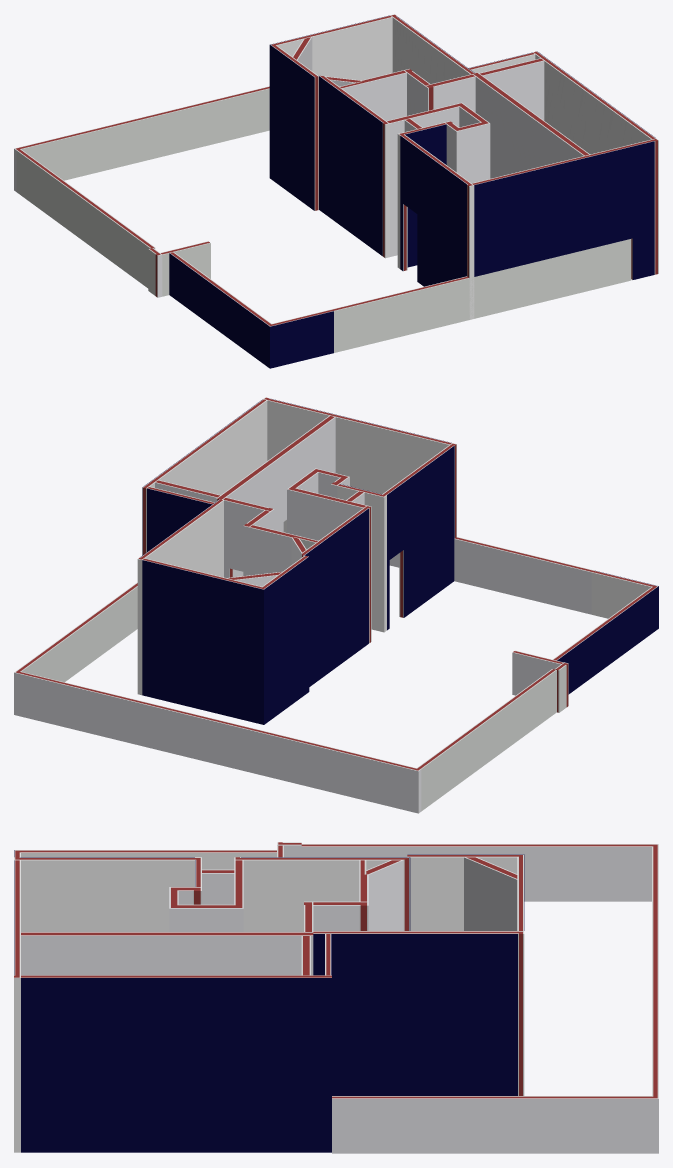
Rendered from PROJETO BIM 12 ANDARES_Cobertura_IfcWallStandardCase.dae.
The picture shows the model from 3 angles, top to bottom: view 1: azimuth 30°, elevation 25°; view 2: azimuth 150°, elevation 25°; view 3: azimuth 270°, elevation 25°; orthographic projection. The views are drawn at different scales.
Visible parts, largest first — view 1: 09FUhpNd17hxATKHNAqtBv, 0GrGU7b458xBIgcOSQjh2O, 0GrGU7b458xBIgcOSQjh9x, 09FUhpNd17hxATKHNAqtKR, 09FUhpNd17hxATKHNAqtB4, 09FUhpNd17hxATKHNAqt3h, 0GrGU7b458xBIgcOSQjh6f, 09FUhpNd17hxATKHNAquWS, 09FUhpNd17hxATKHNAqt9T, 0GrGU7b458xBIgcOSQjhBm, 09FUhpNd17hxATKHNAqt1c, 09FUhpNd17hxATKHNAqtQ6 (+12 smaller); view 2: 0GrGU7b458xBIgcOSQjh9x, 09FUhpNd17hxATKHNAqt1c, 09FUhpNd17hxATKHNAqtB4, 09FUhpNd17hxATKHNAqtKR, 09FUhpNd17hxATKHNAqtBv, 09FUhpNd17hxATKHNAqt3h, 0GrGU7b458xBIgcOSQjh6f, 0GrGU7b458xBIgcOSQjh2O, 09FUhpNd17hxATKHNAqt9T, 09FUhpNd17hxATKHNAquWS, 0GrGU7b458xBIgcOSQjh8a, 0GrGU7b458xBIgcOSQjhBm (+9 smaller); view 3: 09FUhpNd17hxATKHNAqt9T, 09FUhpNd17hxATKHNAqtQ6, 0GrGU7b458xBIgcOSQjh8a, 09FUhpNd17hxATKHNAquWS, 09FUhpNd17hxATKHNAqtB4, 0GrGU7b458xBIgcOSQjh6f, 09FUhpNd17hxATKHNAqtKR, 09FUhpNd17hxATKHNAqt3h, 09FUhpNd17hxATKHNAqt0b, 0GrGU7b458xBIgcOSQjhBm, 09FUhpNd17hxATKHNAqt5W, 0GrGU7b458xBIgcOSQjh9x (+6 smaller).
Boxes of the visible parts, x1,y1,x2,y2 form: 09FUhpNd17hxATKHNAqtBv: [472, 138, 658, 279]; 0GrGU7b458xBIgcOSQjh2O: [331, 239, 631, 352]; 0GrGU7b458xBIgcOSQjh9x: [14, 86, 269, 191]; 09FUhpNd17hxATKHNAqtKR: [318, 75, 389, 258]; 09FUhpNd17hxATKHNAqtB4: [400, 134, 474, 319]; 09FUhpNd17hxATKHNAqt3h: [269, 43, 318, 210]; 0GrGU7b458xBIgcOSQjh6f: [16, 149, 155, 288]; 09FUhpNd17hxATKHNAquWS: [472, 72, 589, 178]; 09FUhpNd17hxATKHNAqt9T: [533, 51, 655, 154]; 0GrGU7b458xBIgcOSQjhBm: [169, 252, 274, 368]; 09FUhpNd17hxATKHNAqt1c: [274, 15, 392, 80]; 09FUhpNd17hxATKHNAqtQ6: [390, 14, 474, 83]; 0GrGU7b458xBIgcOSQjh9x: [14, 670, 421, 813]; 09FUhpNd17hxATKHNAqt1c: [142, 558, 261, 723]; 09FUhpNd17hxATKHNAqtB4: [382, 443, 456, 630]; 09FUhpNd17hxATKHNAqtKR: [301, 505, 371, 686]; 09FUhpNd17hxATKHNAqtBv: [263, 397, 451, 532]; 09FUhpNd17hxATKHNAqt3h: [259, 555, 309, 724]; 0GrGU7b458xBIgcOSQjh6f: [417, 669, 556, 811]; 0GrGU7b458xBIgcOSQjh2O: [389, 537, 593, 614]; 09FUhpNd17hxATKHNAqt9T: [142, 399, 267, 555]; 09FUhpNd17hxATKHNAquWS: [216, 415, 335, 577]; 0GrGU7b458xBIgcOSQjh8a: [17, 582, 137, 682]; 0GrGU7b458xBIgcOSQjhBm: [553, 585, 658, 694]; 09FUhpNd17hxATKHNAqt9T: [21, 975, 331, 1152]; 09FUhpNd17hxATKHNAqtQ6: [313, 931, 524, 1095]; 0GrGU7b458xBIgcOSQjh8a: [332, 1096, 651, 1153]; 09FUhpNd17hxATKHNAquWS: [21, 932, 313, 975]; 09FUhpNd17hxATKHNAqtB4: [14, 857, 194, 931]; 0GrGU7b458xBIgcOSQjh6f: [301, 844, 651, 901]; 09FUhpNd17hxATKHNAqtKR: [234, 857, 410, 931]; 09FUhpNd17hxATKHNAqt3h: [407, 854, 524, 930]; 09FUhpNd17hxATKHNAqt0b: [464, 857, 517, 930]; 0GrGU7b458xBIgcOSQjhBm: [14, 850, 276, 869]; 09FUhpNd17hxATKHNAqt5W: [366, 860, 403, 930]; 0GrGU7b458xBIgcOSQjh9x: [652, 844, 658, 1153].
Size of the model in its own units: 13.08 by 13.9 by 4.15.
